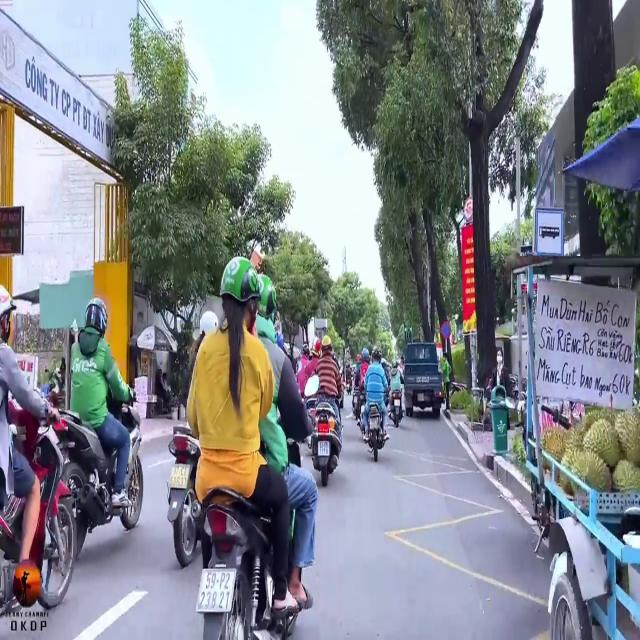bien_trang: (198, 560, 235, 614)
